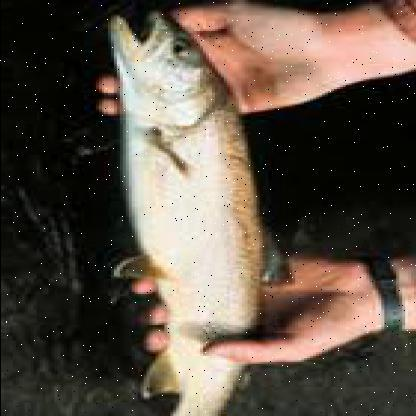fish: (108, 12, 284, 412)
